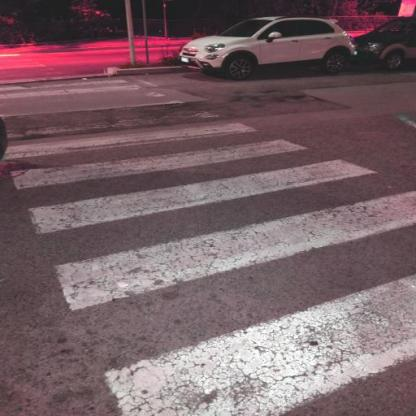crosswalk: (2, 134, 393, 241)
